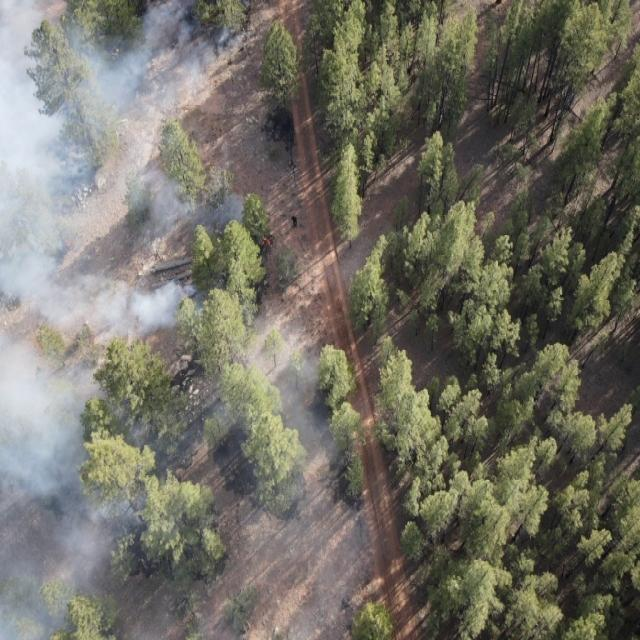fire: (253, 226, 280, 254), (64, 238, 74, 248)
smoke: (0, 321, 359, 640), (0, 114, 207, 344), (0, 0, 252, 115), (126, 157, 249, 234)
